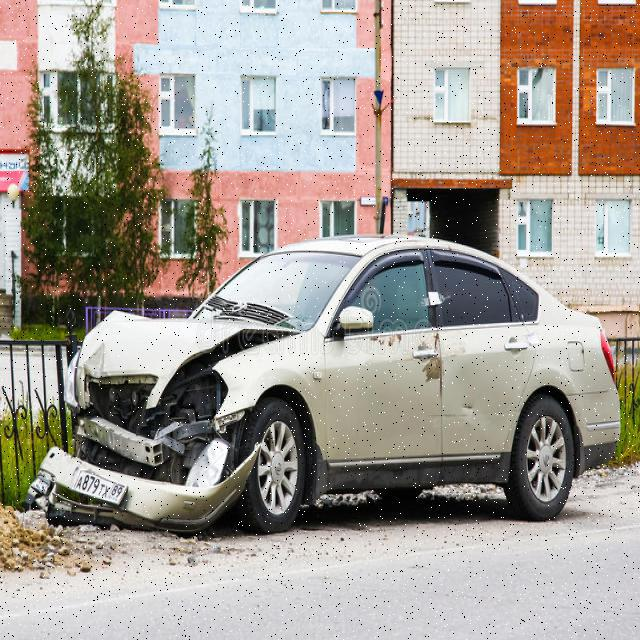bonnet-dent: (62, 303, 222, 390)
doorouter-dent: (329, 334, 445, 466), (443, 333, 531, 455)
fender-dent: (218, 337, 324, 436)
front-bumper-dent: (26, 428, 260, 531)
